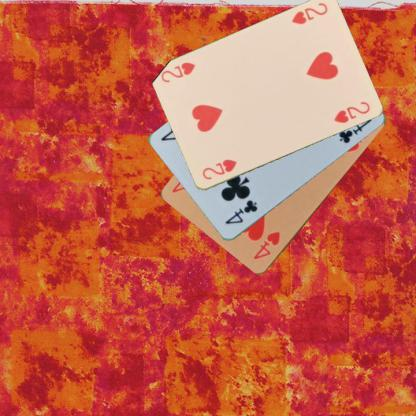2h: (199, 156, 238, 182), (289, 1, 329, 26)
4c: (222, 197, 259, 226)
4h: (250, 229, 282, 261)
